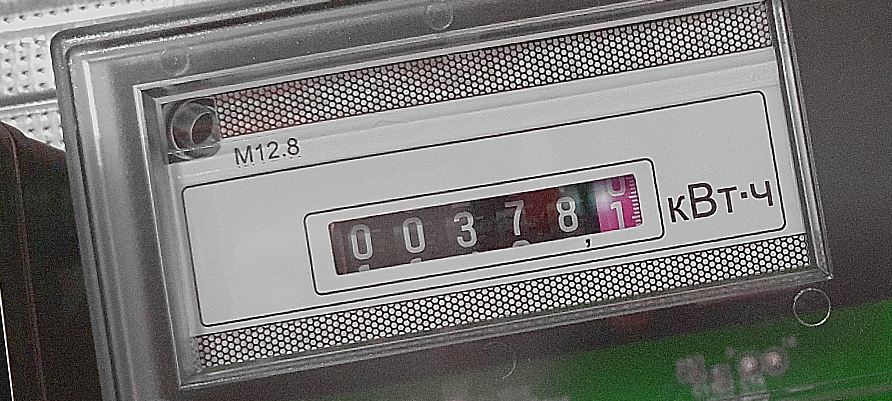0: (346, 218, 378, 262), (398, 213, 428, 255), (604, 173, 628, 198)
1: (606, 196, 629, 230)
3: (449, 207, 480, 250)
7: (501, 196, 529, 237)
8: (552, 192, 581, 234)
screen: (304, 152, 665, 287)
